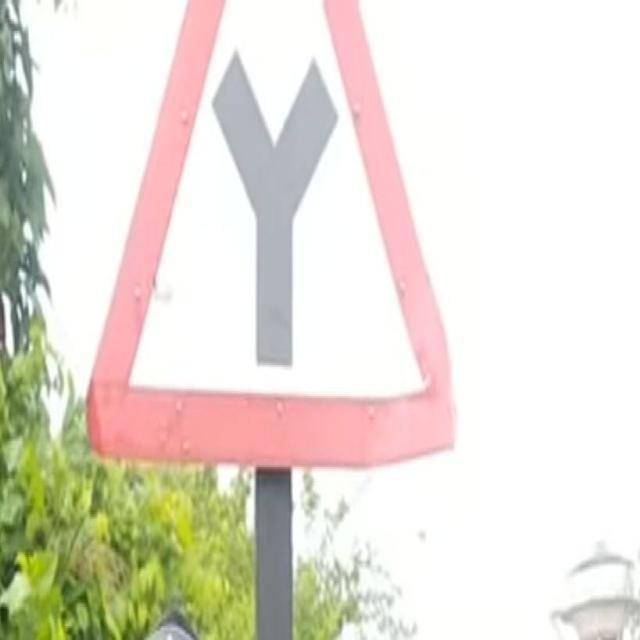y intersection: (71, 13, 467, 471)
